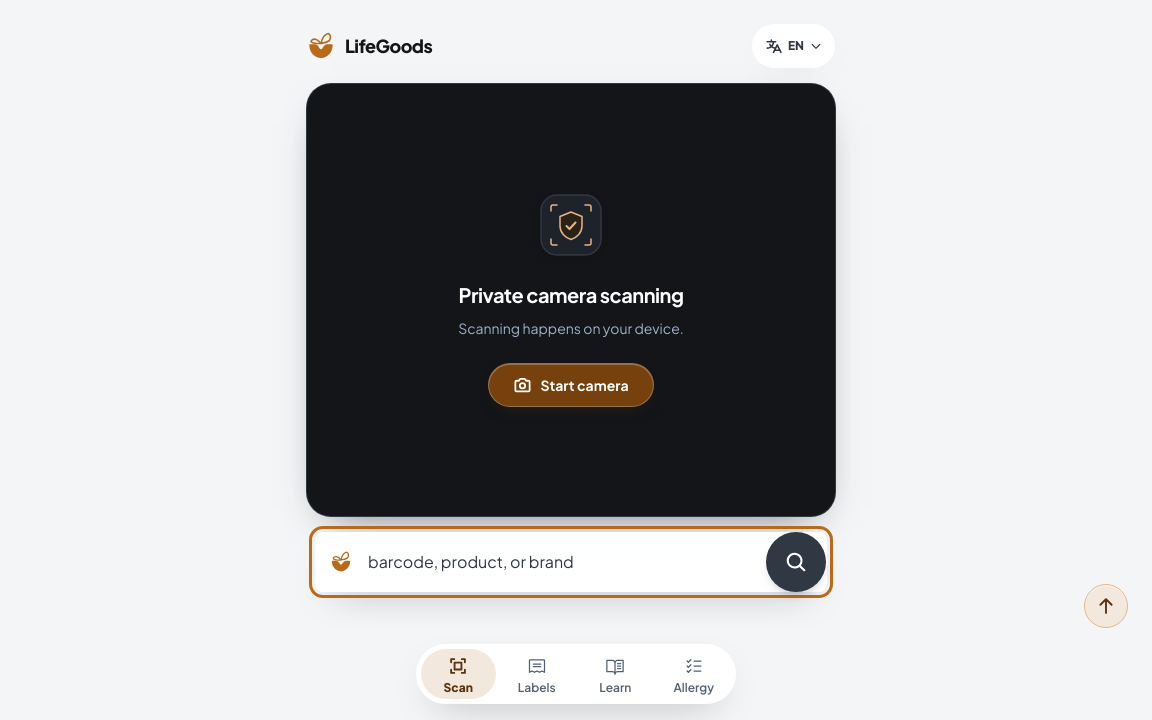
Test: Life Goods routes › activates Search with Enter and focuses it again after returning to Scan
The image size is (1152, 720).
(page scrolled)
Press Enter
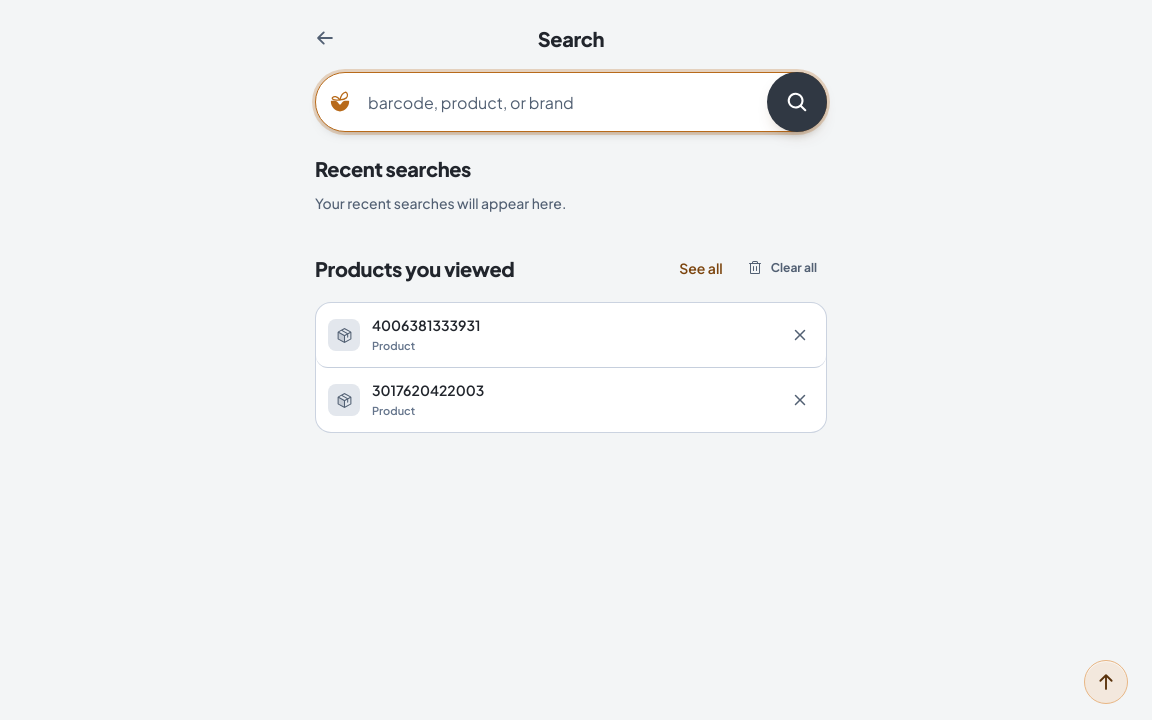
Click the link named "Back to scanner": (325, 38) [315,28,335,48]
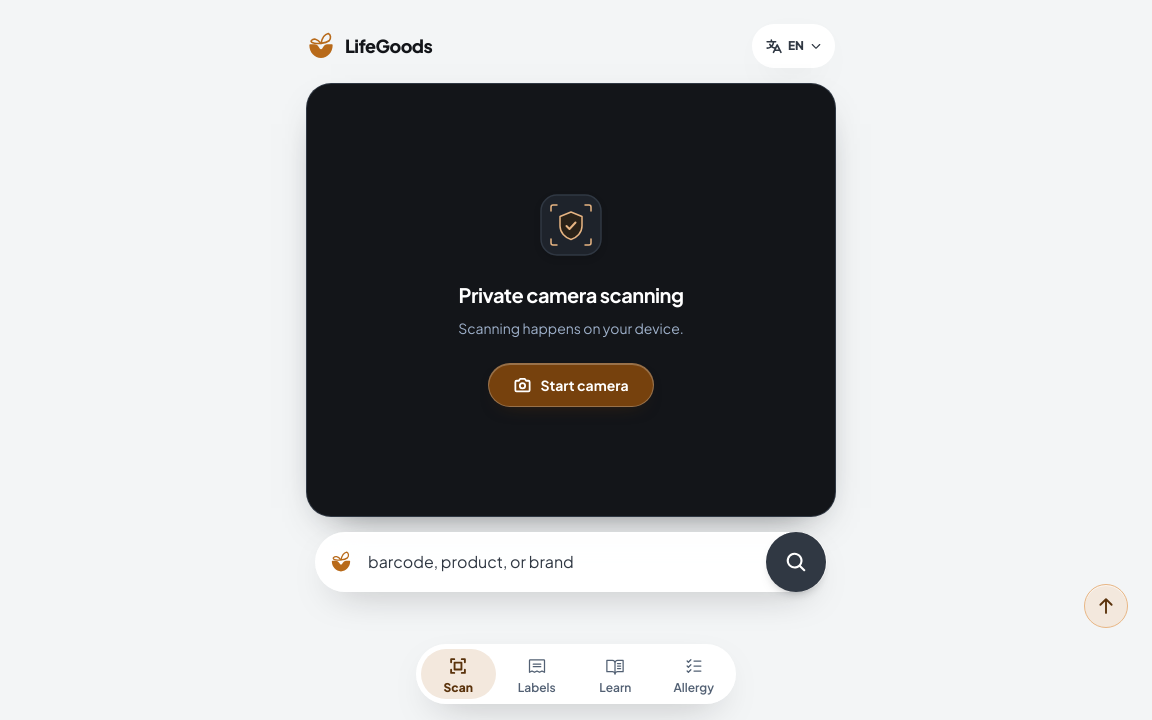
Click the link with aria-label "Search": (571, 562) [315,532,827,592]
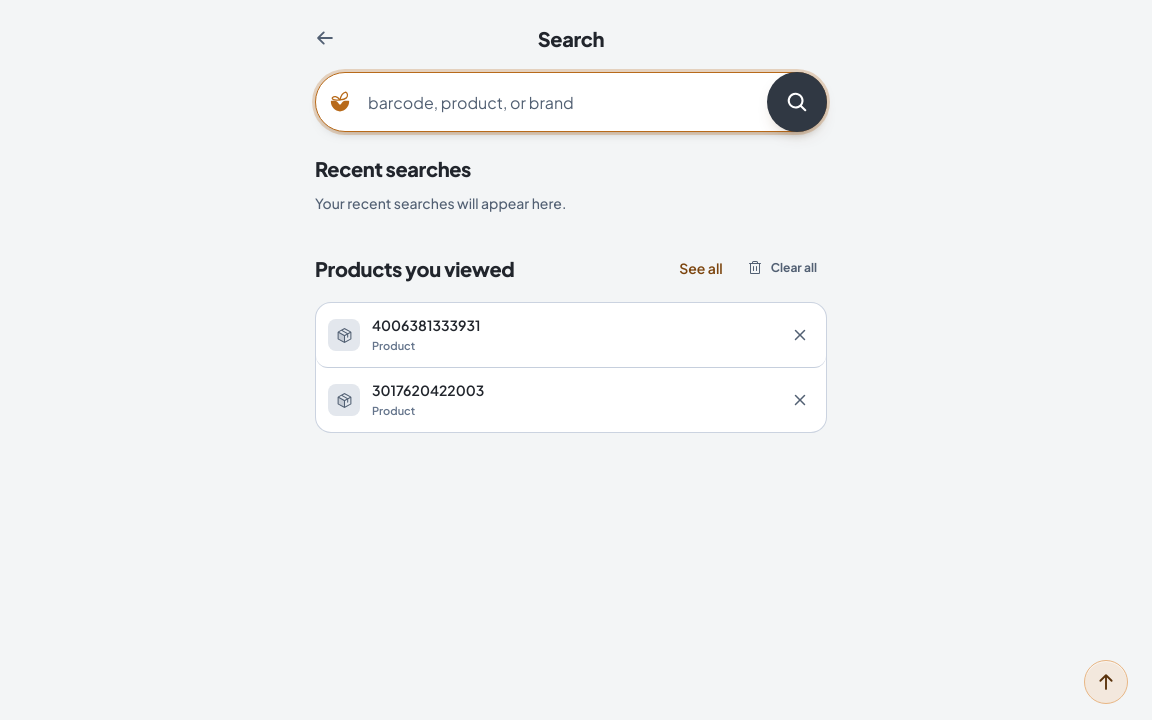
Type keys "milk"
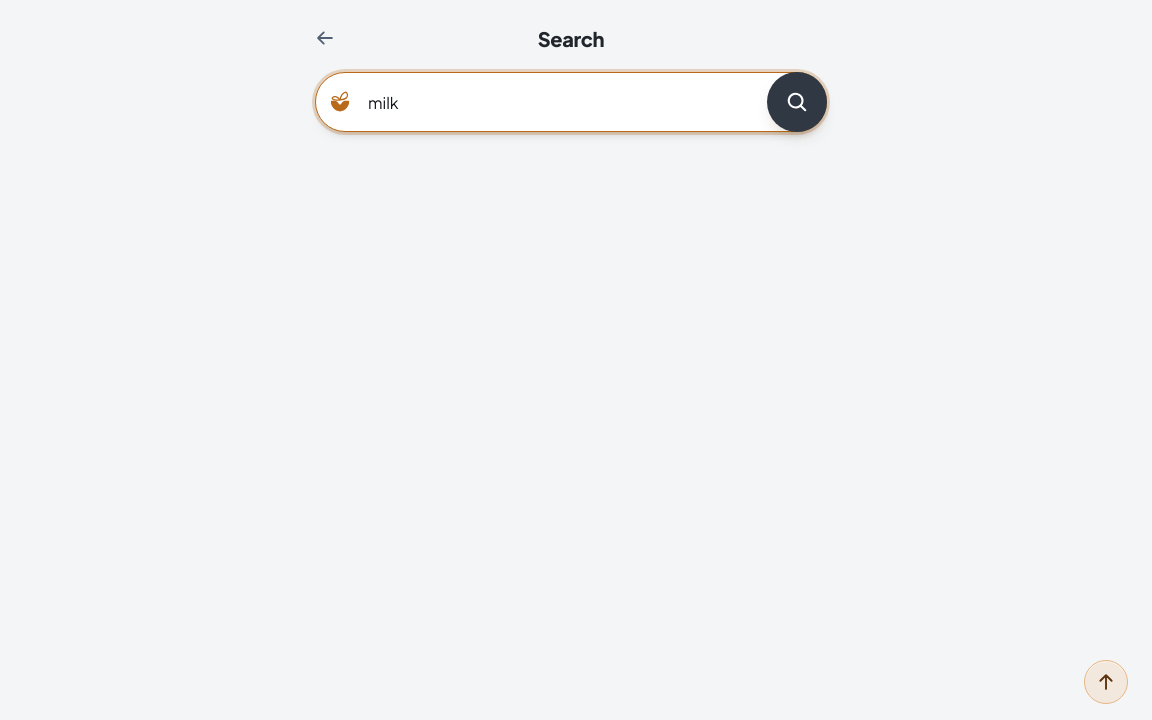
Expected: the field named "Search" holds "milk", [315,72,827,132]
